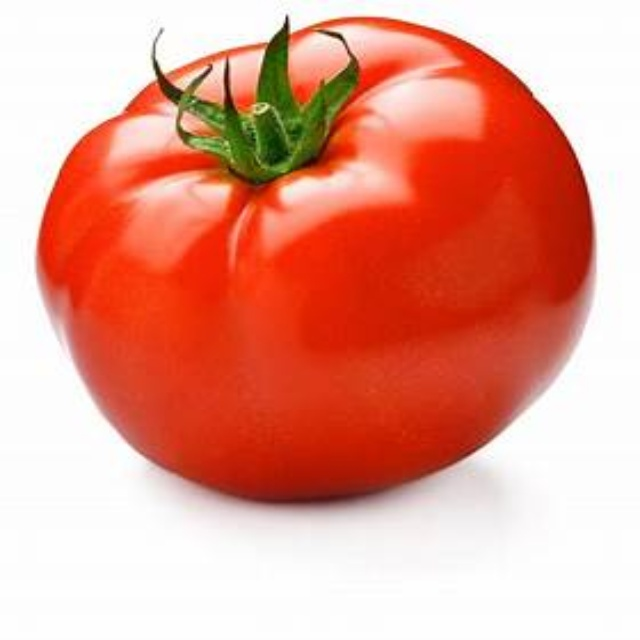tomato: (40, 15, 600, 509)
